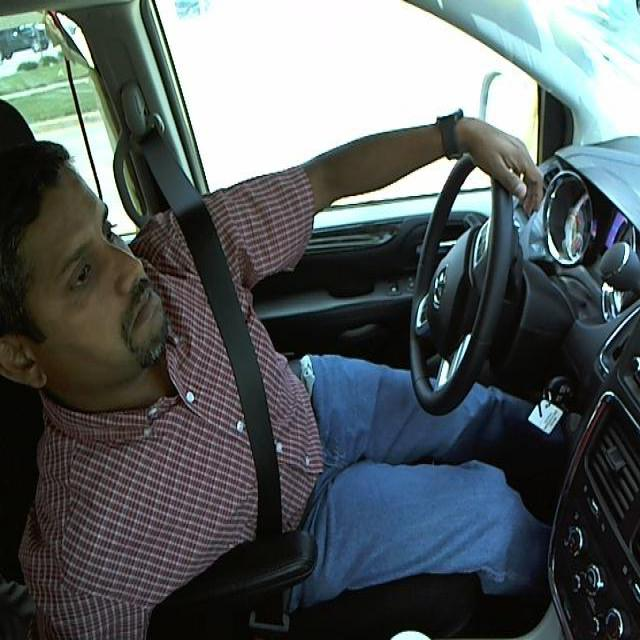seatbelt: (182, 231, 304, 541)
